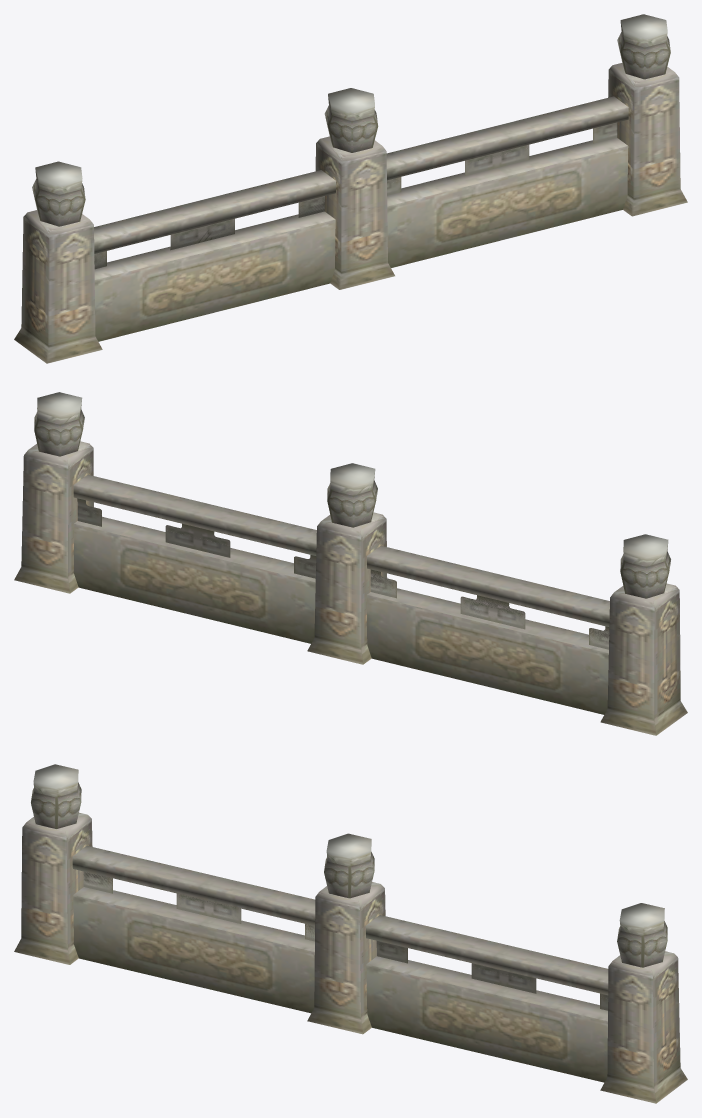
The model's file is environment_Building_sea_001_e.FBX.
The picture shows the model from 3 angles, top to bottom: view 1: azimuth 30°, elevation 25°; view 2: azimuth 150°, elevation 25°; view 3: azimuth 330°, elevation 25°; orthographic projection.
Parts seen in each view (by area): view 1: environment_Building_sea_001_e02, environment_Building_sea_001_e01; view 2: environment_Building_sea_001_e02, environment_Building_sea_001_e01; view 3: environment_Building_sea_001_e02, environment_Building_sea_001_e01.
Part boxes in pixels (x1,y1,x2,y2): environment_Building_sea_001_e02: (315, 14, 687, 289); environment_Building_sea_001_e01: (14, 161, 335, 363); environment_Building_sea_001_e02: (14, 392, 387, 664); environment_Building_sea_001_e01: (367, 534, 687, 735); environment_Building_sea_001_e02: (307, 833, 687, 1103); environment_Building_sea_001_e01: (14, 764, 315, 1013).
Bounding box in the file's own units: 457 × 119 × 43.51.
Materials: 1 (1 with a texture image).
